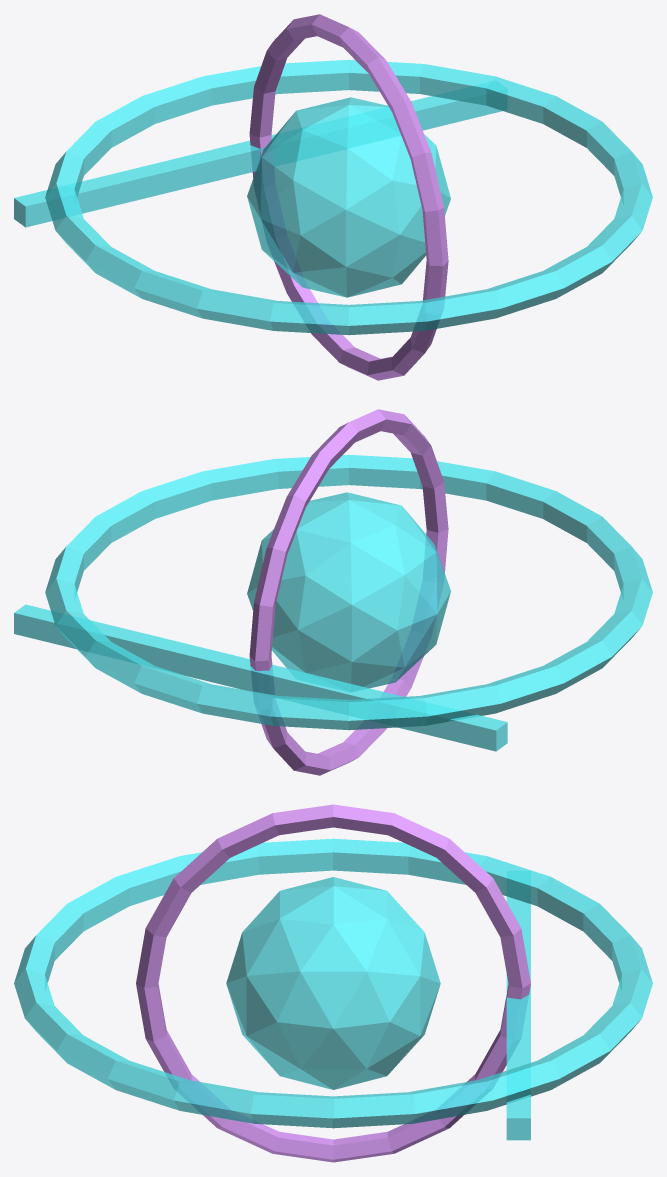
File: 05_emissive_glow_overlay_5.glb
3 views of the same model, one above another, from view 1: azimuth 30°, elevation 25°; view 2: azimuth 150°, elevation 25°; view 3: azimuth 270°, elevation 25° (orthographic). The views are drawn at different scales.
Visible parts, largest first — view 1: emissive_outer_ring, glow_core, emissive_inner_ring, emissive_strip; view 2: emissive_outer_ring, glow_core, emissive_inner_ring, emissive_strip; view 3: emissive_outer_ring, glow_core, emissive_inner_ring, emissive_strip.
Boxes of the visible parts, x1,y1,x2,y2 form: emissive_outer_ring: (45, 59, 652, 335); glow_core: (247, 97, 450, 297); emissive_inner_ring: (249, 14, 448, 380); emissive_strip: (14, 96, 502, 227); emissive_outer_ring: (45, 454, 652, 730); glow_core: (247, 492, 450, 688); emissive_inner_ring: (249, 409, 448, 775); emissive_strip: (14, 604, 507, 751); emissive_outer_ring: (14, 838, 652, 1128); glow_core: (226, 877, 440, 1089); emissive_inner_ring: (136, 804, 530, 1162); emissive_strip: (506, 896, 530, 1140).
Size of the model in its own units: 1.31 by 0.81 by 1.31.
